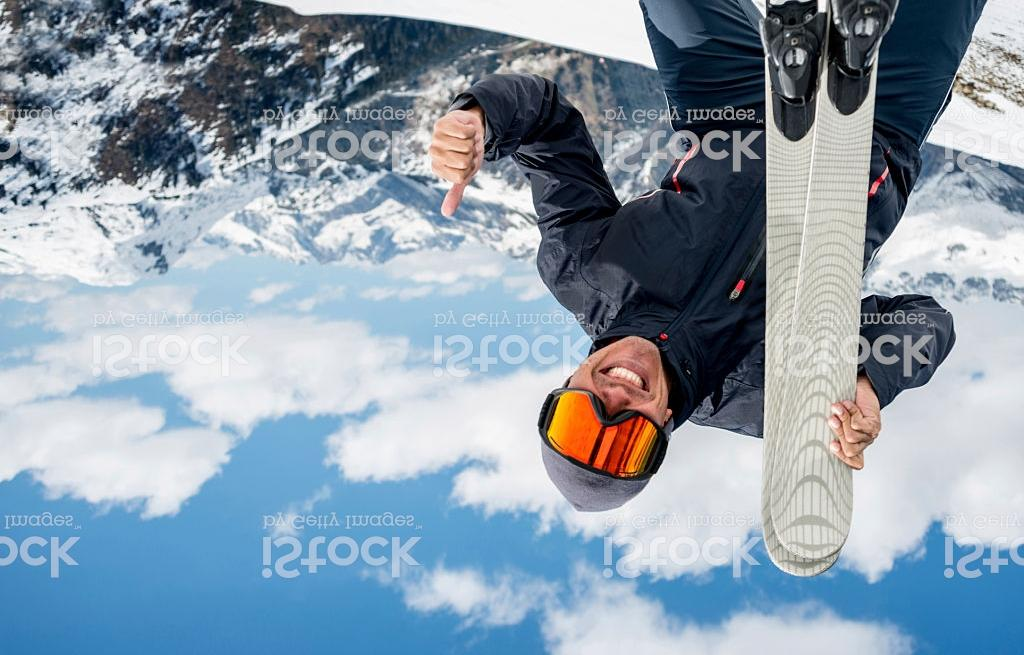thumbsdown: (425, 109, 487, 218)
